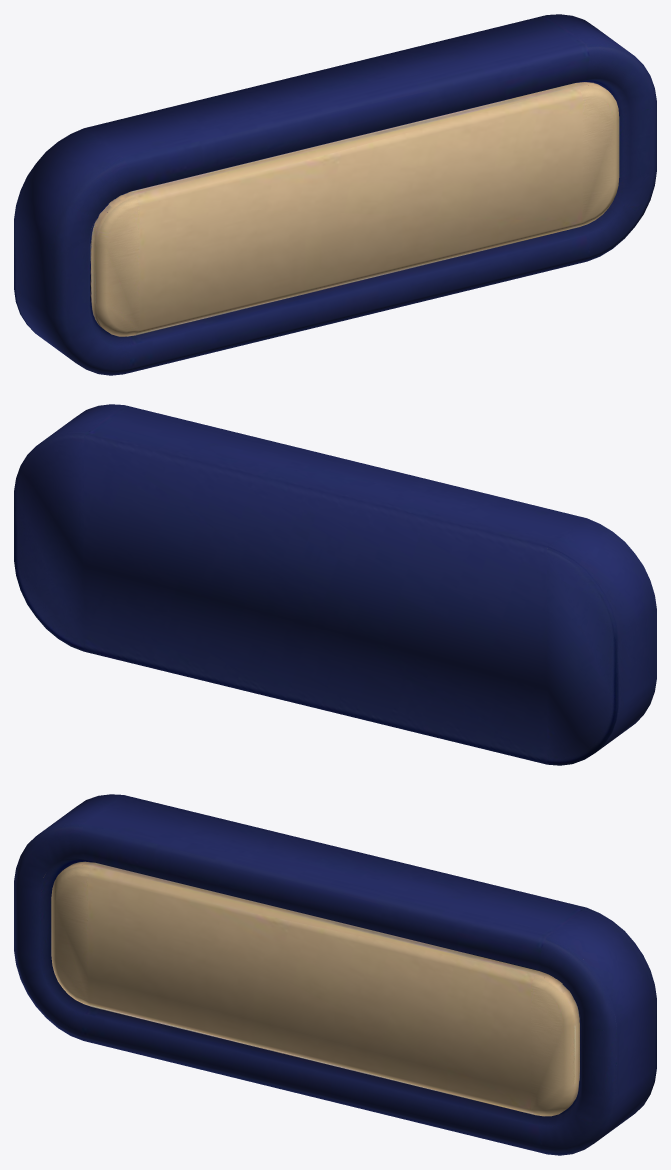
File: sign-miss.glb
3 renders of one model, top to bottom at view 1: azimuth 30°, elevation 25°; view 2: azimuth 150°, elevation 25°; view 3: azimuth 330°, elevation 25°, orthographic.
Visible parts, largest first — view 1: tripo_node_d065dd80-1bce-4ed2-a428-9b660c3803d5; view 2: tripo_node_d065dd80-1bce-4ed2-a428-9b660c3803d5; view 3: tripo_node_d065dd80-1bce-4ed2-a428-9b660c3803d5.
Part boxes in pixels (x1,y1,x2,y2): tripo_node_d065dd80-1bce-4ed2-a428-9b660c3803d5: [14, 14, 656, 375]; tripo_node_d065dd80-1bce-4ed2-a428-9b660c3803d5: [14, 404, 656, 765]; tripo_node_d065dd80-1bce-4ed2-a428-9b660c3803d5: [14, 794, 656, 1155].
Size of the model in its own units: 0.9995 by 0.3442 by 0.1313.
Materials: 1 (1 with a texture image).
